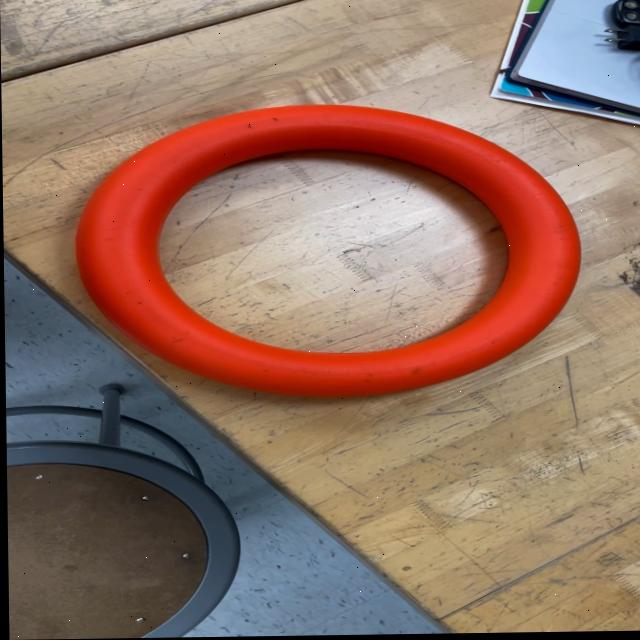note: (71, 102, 584, 402)
